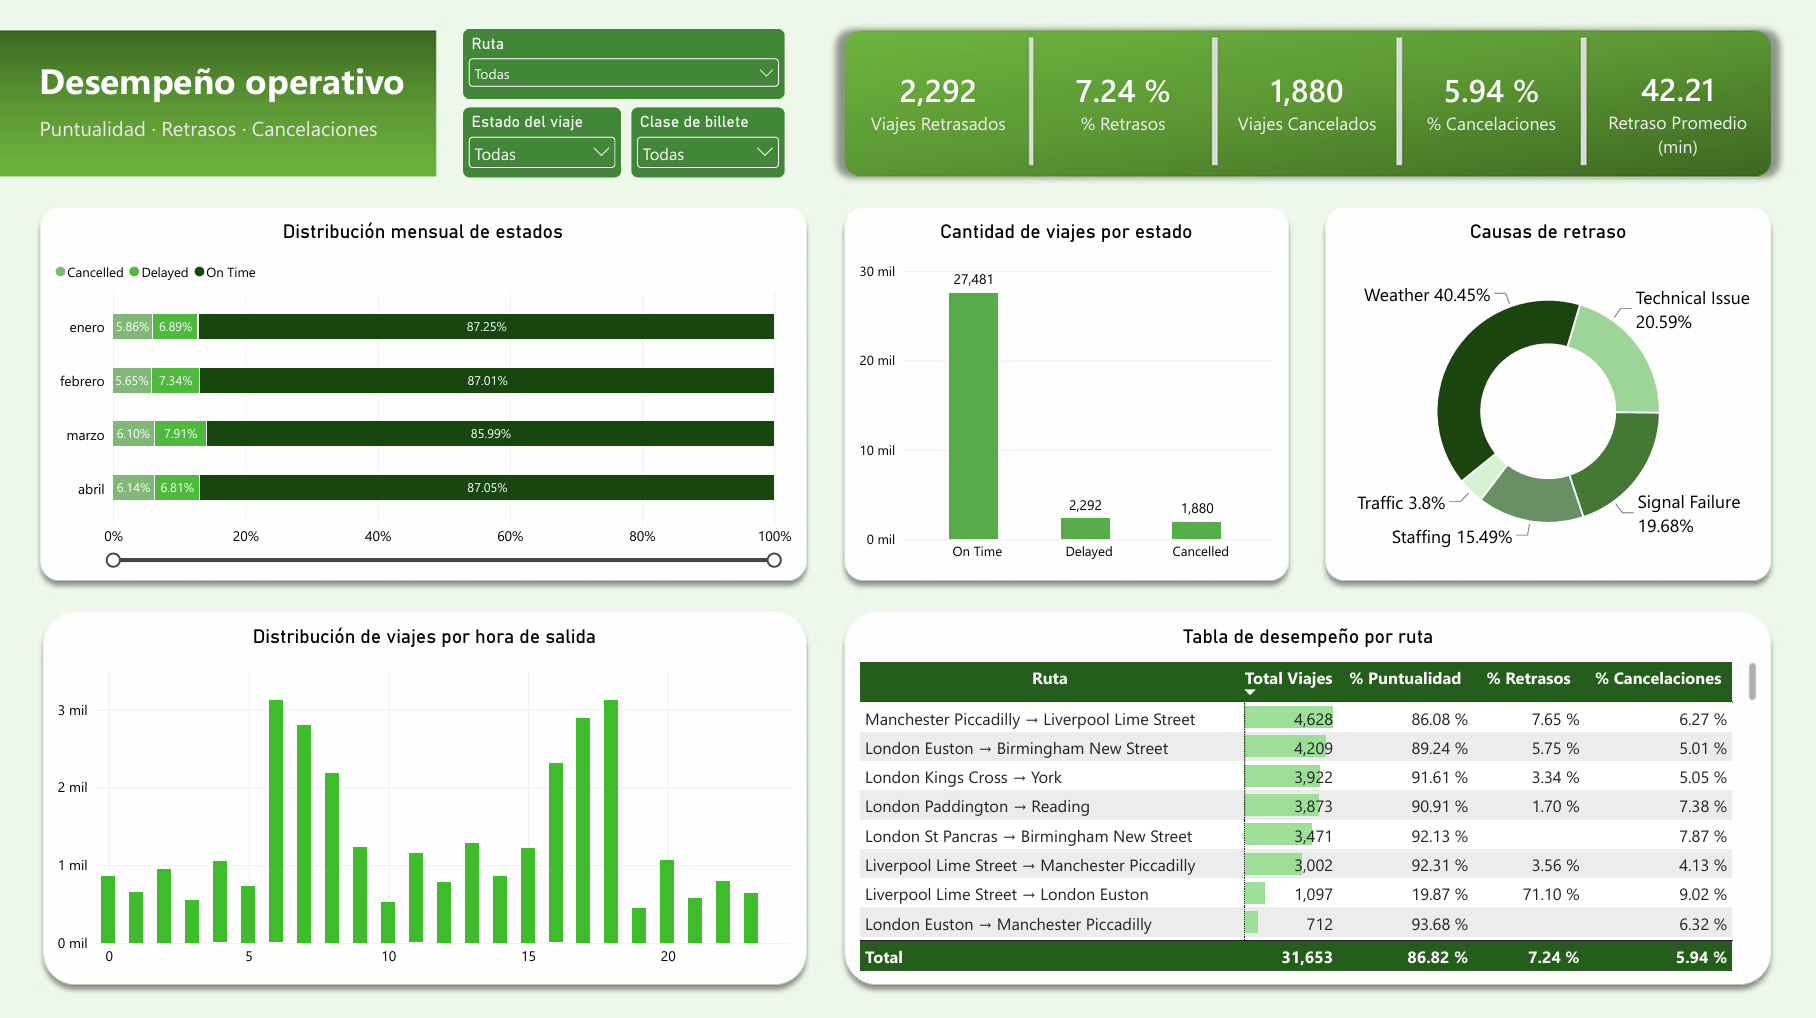

Layout of this report page (visuals, bound fields, positions):
{"tool":"powerbi","page":{"name":"Página 2","canvas":[1920,1080],"ordinal":1},"visuals":[{"type":"textbox","box":[41.2,58.8,402.4,56.6],"z":0},{"type":"textbox","box":[41.2,120.3,376.8,34.8],"z":2000},{"type":"columnChart","title":"Cantidad de viajes por estado","fields":{"Category":["public railway.Journey Status"],"Y":["public railway.Total Viajes"]},"box":[892.2,218.3,470,395.7],"z":3000},{"type":"donutChart","title":"Causas de retraso","fields":{"Category":["public railway.Reason for Delay"],"Y":["public railway.Total Viajes"]},"box":[1400.4,218.3,472.6,395.7],"z":4000},{"type":"tableEx","title":"Tabla de desempeño por ruta","fields":{"Values":["public railway.Route","public railway.Total Viajes","public railway.% Puntualidad","public railway.% Retrasos","public railway.% Cancelaciones"]},"box":[892.2,646.5,980.9,395.2],"z":5000},{"type":"hundredPercentStackedBarChart","title":"Distribución mensual de estados","fields":{"Category":["public railway.Date of Journey.Variación.Jerarquía de fechas.Mes"],"Series":["public railway.Journey Status"],"Y":["public railway.Total Viajes"]},"box":[41.3,218.3,810.9,395.7],"z":6000},{"type":"slicer","fields":{"Values":["public railway.Journey Status"]},"box":[489.1,112.6,166.5,73.9],"z":7000},{"type":"slicer","fields":{"Values":["public railway.Ticket Class"]},"box":[666.5,112.6,162.2,73.9],"z":8000},{"type":"slicer","fields":{"Values":["public railway.Route"]},"box":[489.1,30.4,339.6,73.9],"z":9000},{"type":"clusteredColumnChart","title":"Distribución de viajes por hora de salida","fields":{"Category":["public railway.Departure Hour"],"Y":["public railway.Total Viajes"]},"box":[44.3,646.5,807.8,395.2],"z":11000},{"type":"cardVisual","fields":{"Data":["public railway.Viajes Retrasados"]},"box":[892.6,30.4,197,153.9],"z":12000},{"type":"cardVisual","fields":{"Data":["public railway.% Retrasos"]},"box":[1089.8,30.3,194.1,153.9],"z":13000},{"type":"cardVisual","fields":{"Data":["public railway.Viajes Cancelados"]},"box":[1283.9,30.3,195.3,153.9],"z":14000},{"type":"cardVisual","fields":{"Data":["public railway.% Cancelaciones"]},"box":[1479.1,30.2,195.3,153.9],"z":15000},{"type":"cardVisual","fields":{"Data":["public railway.Retraso Promedio (min)"]},"box":[1674.2,55.6,198.5,125.2],"z":16000}]}

Visuals, with their boxes in screenshot pixels (x1, y1, x2, y2), scaled from the page's 1920x1080 canvas onto the 1816x1018 screenshot:
textbox: box(39, 55, 420, 109)
textbox: box(39, 113, 395, 146)
"Cantidad de viajes por estado" columnChart: box(844, 206, 1288, 579)
"Causas de retraso" donutChart: box(1325, 206, 1772, 579)
"Tabla de desempeño por ruta" tableEx: box(844, 609, 1772, 982)
"Distribución mensual de estados" hundredPercentStackedBarChart: box(39, 206, 806, 579)
slicer - public railway.Journey Status: box(463, 106, 620, 176)
slicer - public railway.Ticket Class: box(630, 106, 784, 176)
slicer - public railway.Route: box(463, 29, 784, 98)
"Distribución de viajes por hora de salida" clusteredColumnChart: box(42, 609, 806, 982)
cardVisual - public railway.Viajes Retrasados: box(844, 29, 1031, 174)
cardVisual - public railway.% Retrasos: box(1031, 29, 1214, 174)
cardVisual - public railway.Viajes Cancelados: box(1214, 29, 1399, 174)
cardVisual - public railway.% Cancelaciones: box(1399, 28, 1584, 174)
cardVisual - public railway.Retraso Promedio (min): box(1584, 52, 1771, 170)
